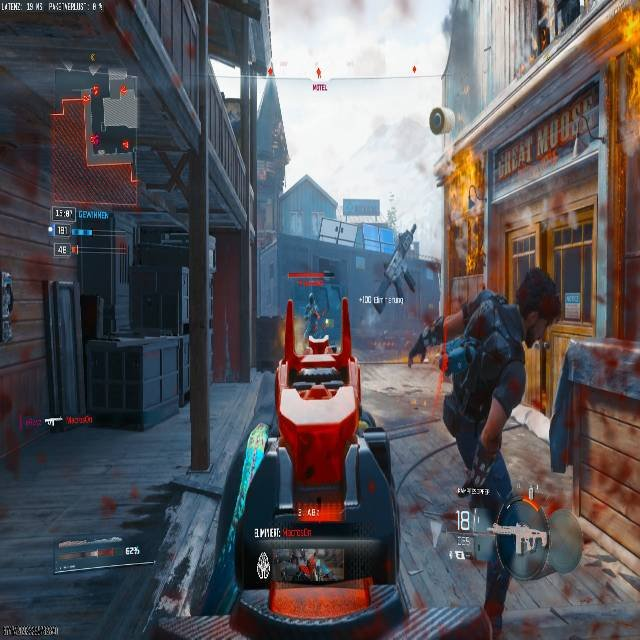player: (425, 286, 526, 513), (515, 267, 560, 350), (407, 321, 430, 368), (303, 296, 324, 339)
